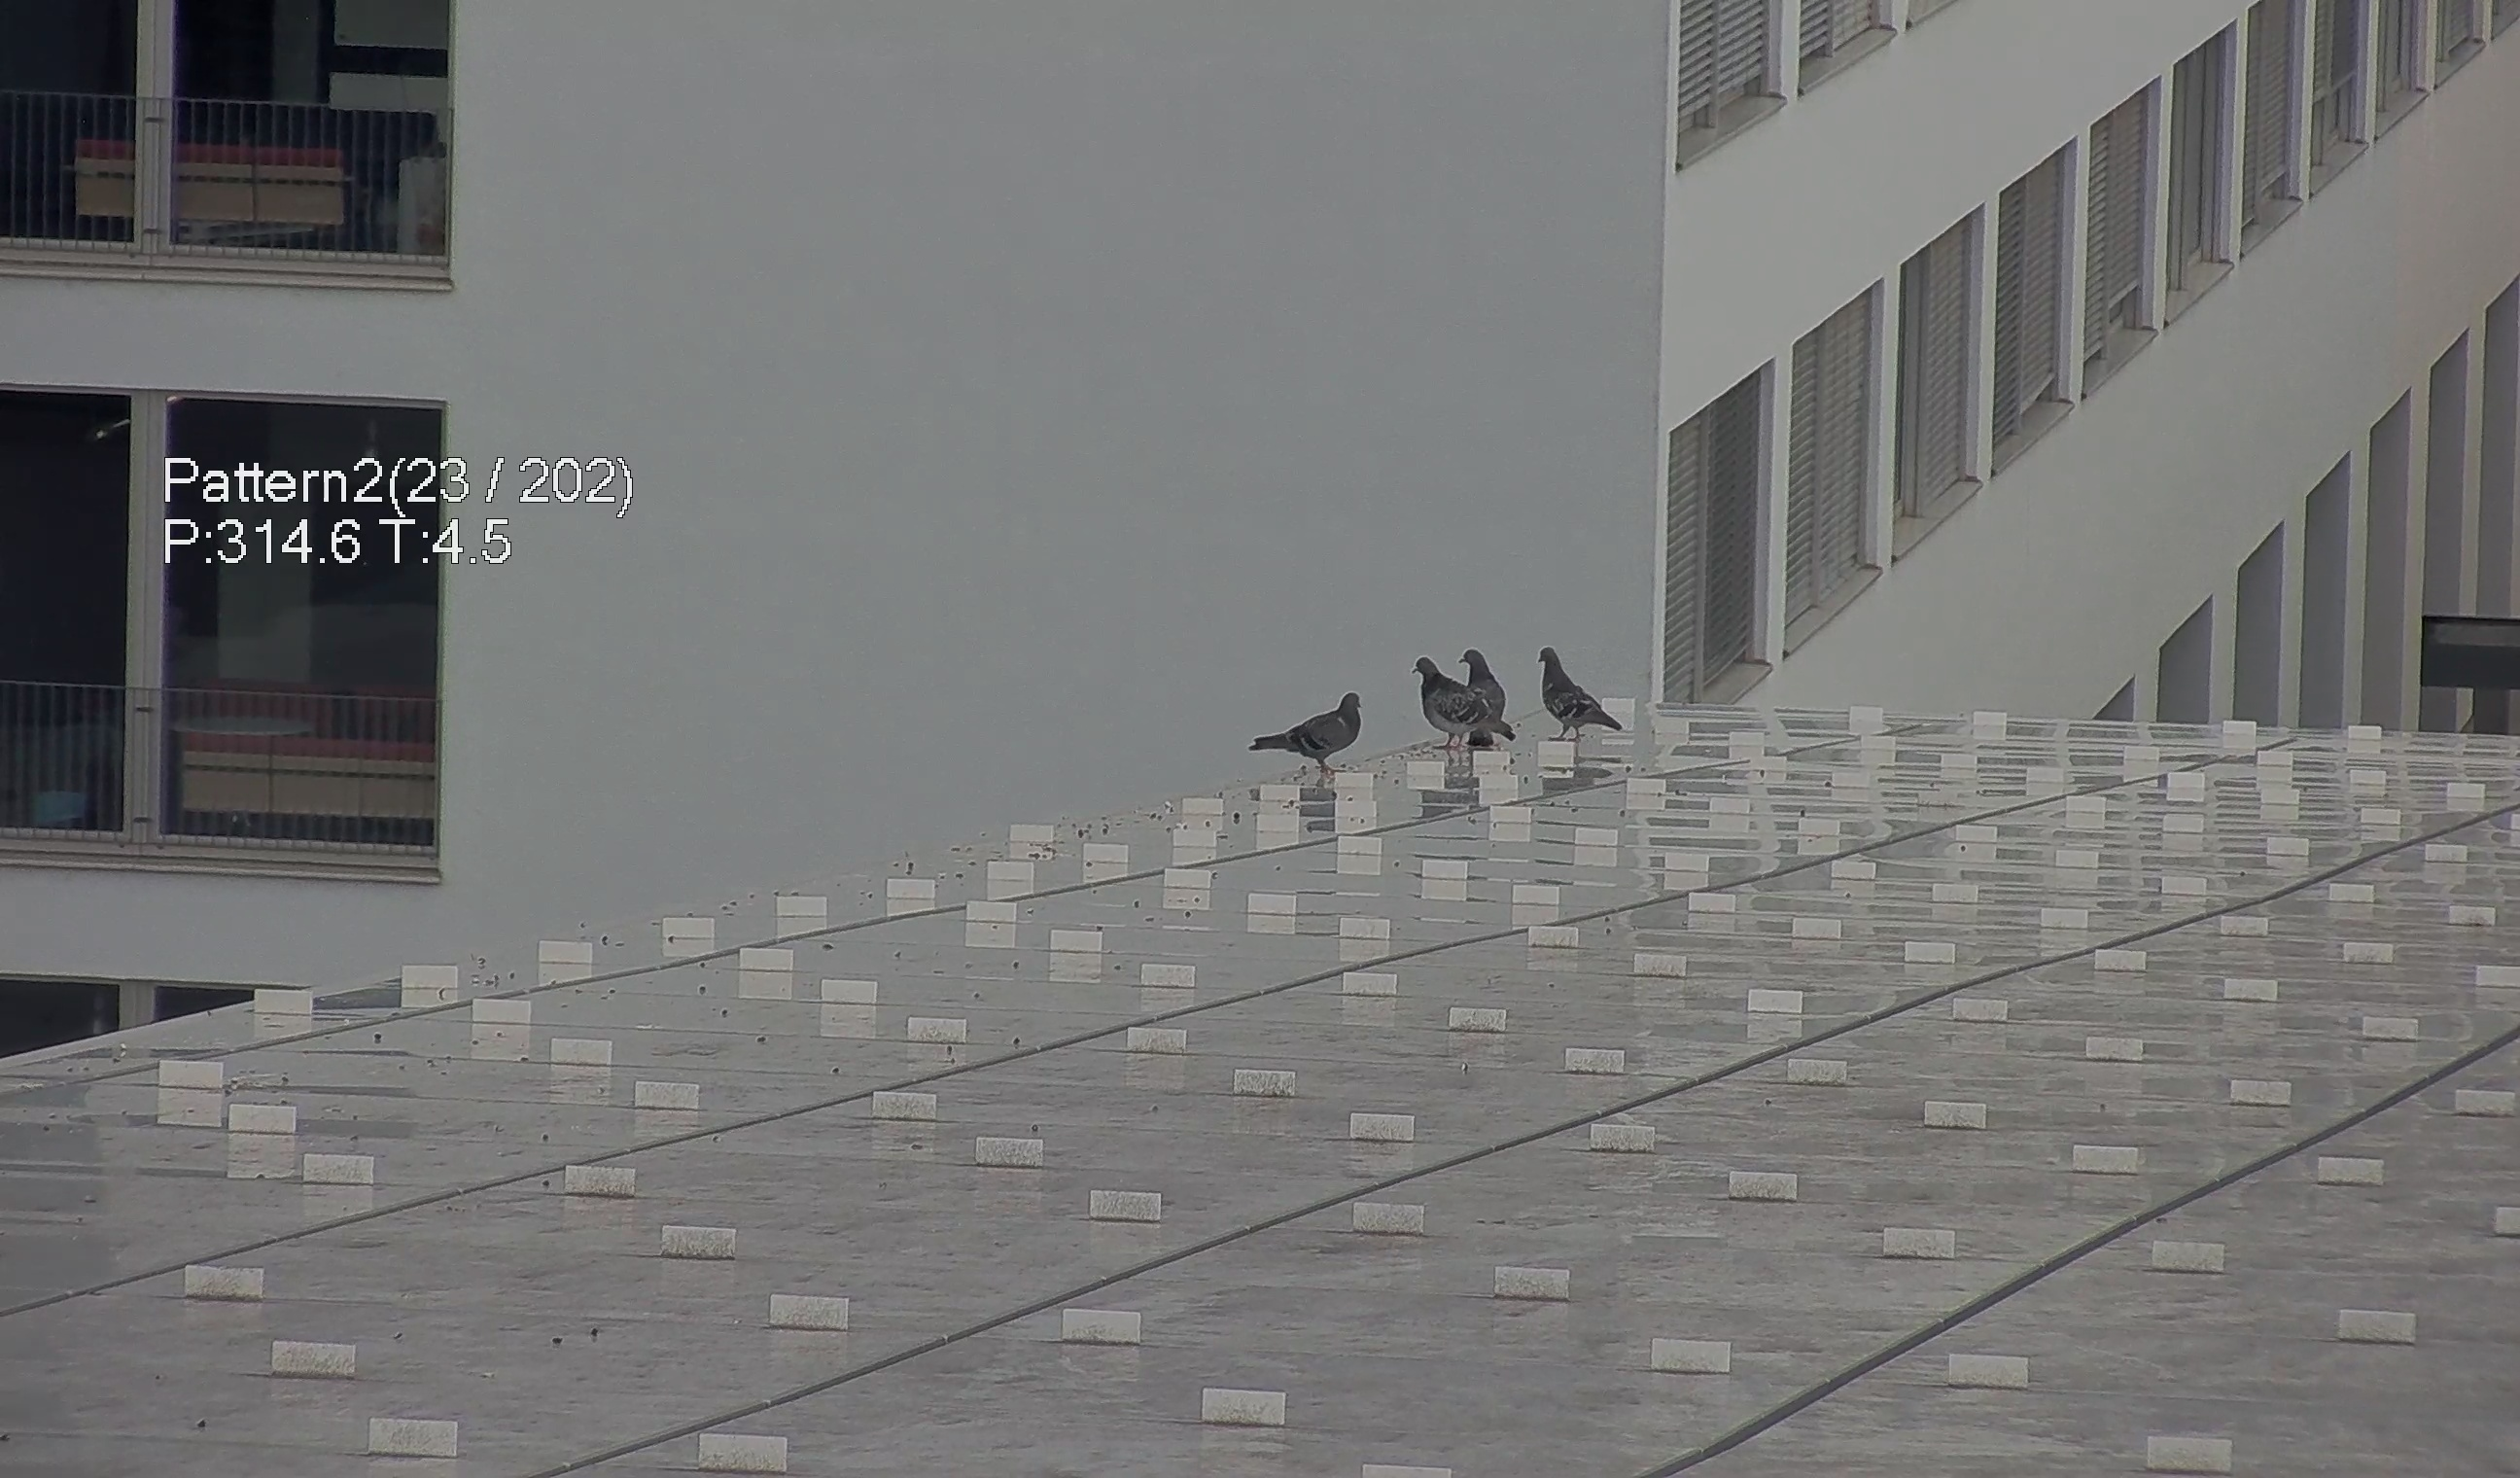Pigeon: (1409, 633, 1521, 764), (1521, 628, 1634, 758), (1249, 686, 1379, 776), (1460, 640, 1514, 727)
